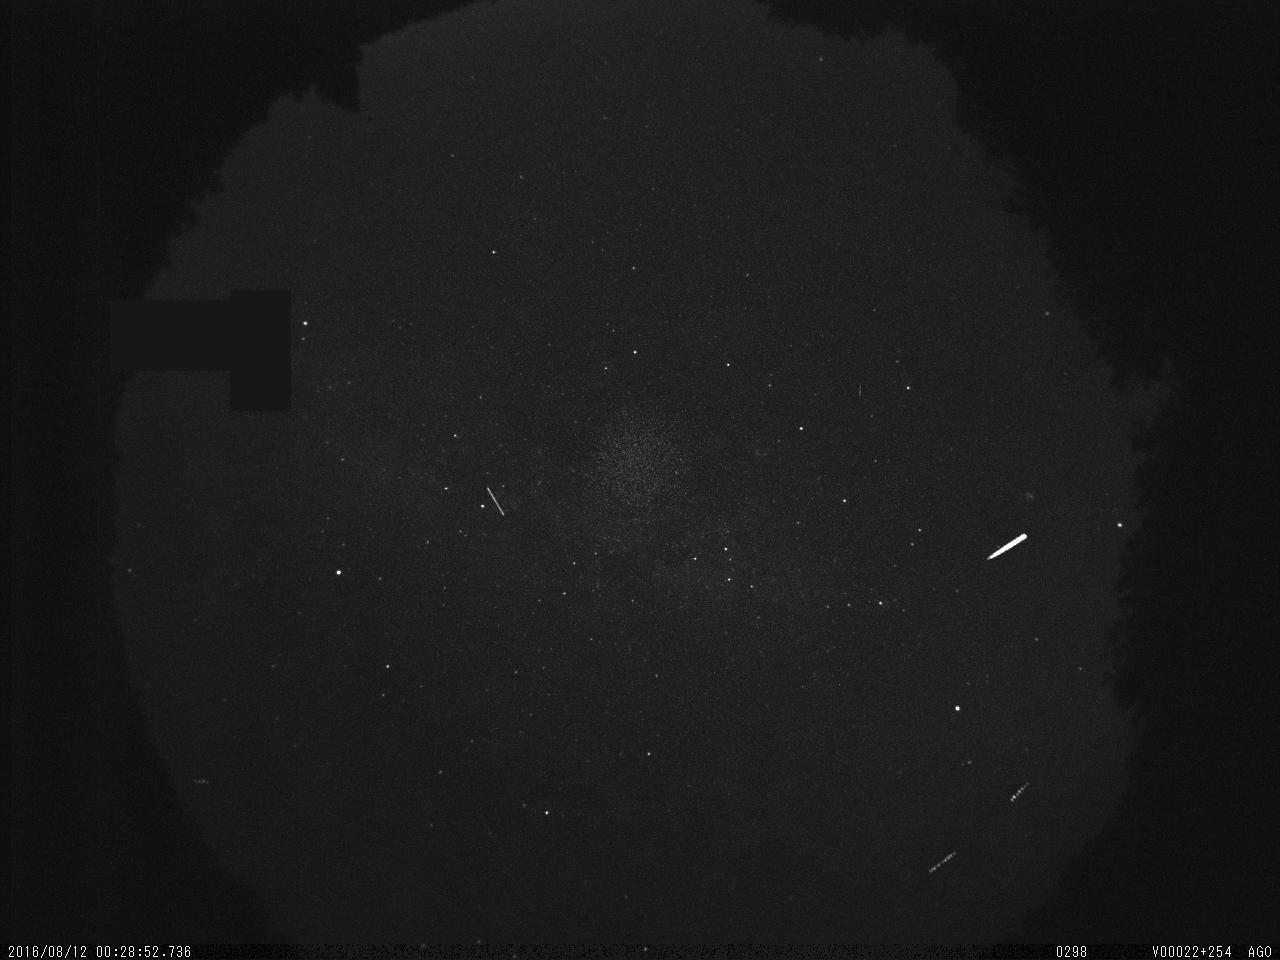meteor: (977, 524, 1034, 569)
satelite: (1002, 770, 1039, 813), (925, 844, 961, 882), (481, 479, 511, 521)
